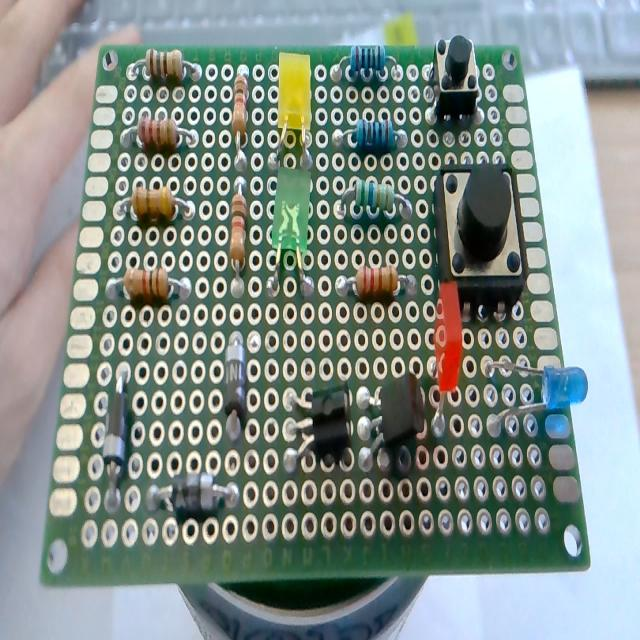diode: (148, 472, 238, 521), (103, 372, 128, 510), (223, 331, 248, 441)
led: (480, 356, 589, 432), (265, 170, 318, 300), (272, 52, 315, 174), (428, 285, 462, 434)
resistor: (338, 177, 412, 220), (108, 267, 190, 304), (119, 185, 194, 225), (338, 266, 416, 302), (126, 115, 196, 153), (128, 48, 201, 84), (332, 44, 400, 82), (230, 170, 250, 299), (335, 120, 405, 155), (230, 66, 250, 172)
switch: (434, 164, 526, 322), (432, 34, 479, 121)
transistor: (357, 371, 429, 473), (282, 379, 354, 471)
